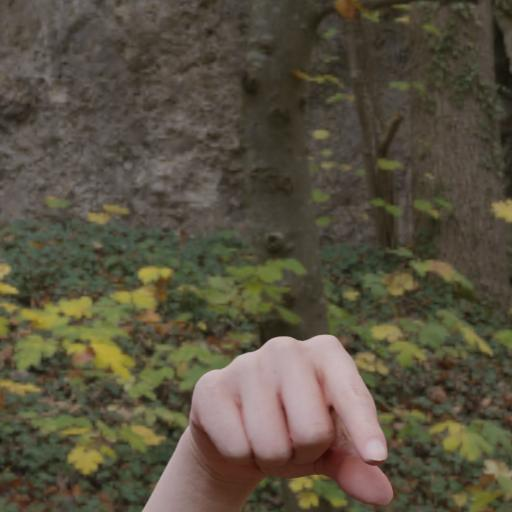Q: (154, 277, 480, 512)
